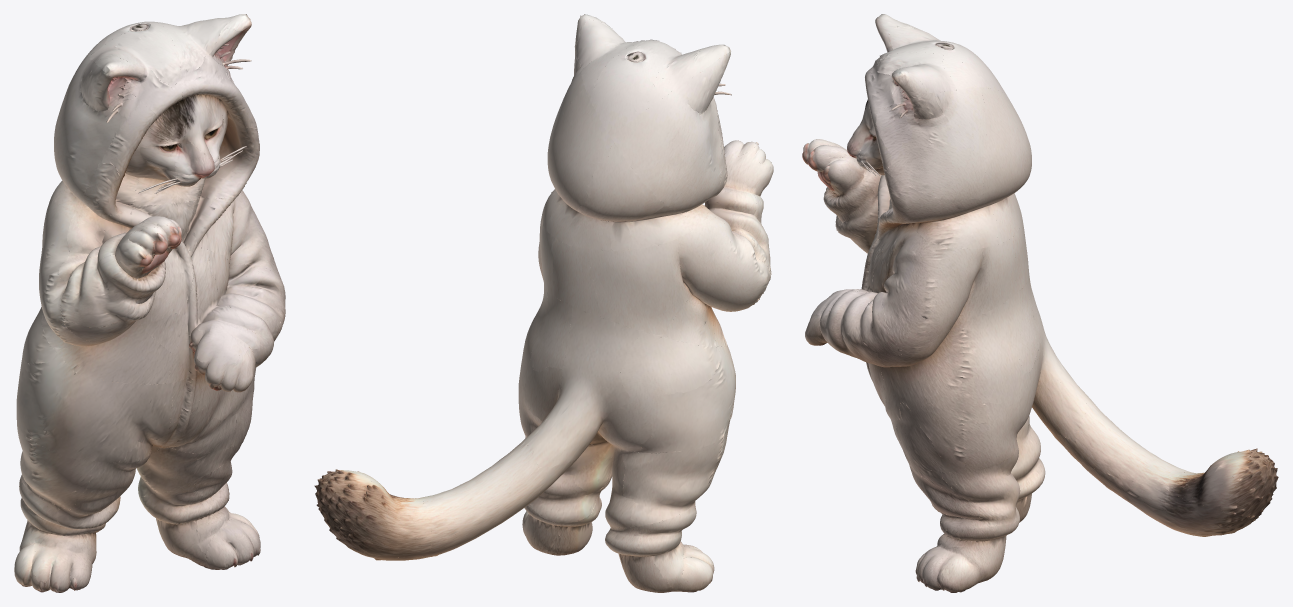
Rendered from MiaByBy3D.fbx.
The picture shows the model from 3 angles, left to right: view 1: azimuth 30°, elevation 25°; view 2: azimuth 150°, elevation 25°; view 3: azimuth 270°, elevation 25°; orthographic projection. The views are drawn at different scales.
Parts seen in each view (by area): view 1: MiaByBy3D; view 2: MiaByBy3D; view 3: MiaByBy3D.
Boxes of the visible parts, x1,y1,x2,y2 form: MiaByBy3D: (14, 14, 285, 592); MiaByBy3D: (314, 14, 773, 592); MiaByBy3D: (802, 14, 1278, 592).
Bounding box in the file's own units: 54.74 × 97.93 × 83.19.
Materials: 1 (1 with a texture image).
